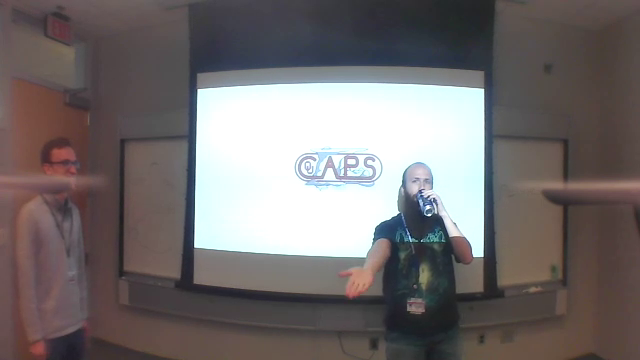land: (333, 263, 380, 306)
